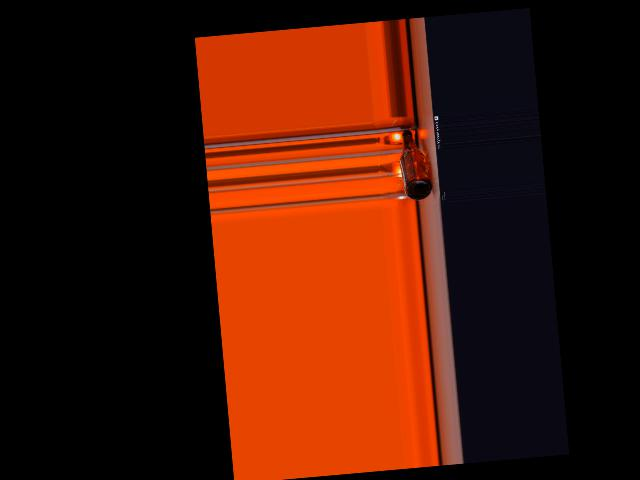beer: (397, 130, 434, 202)
